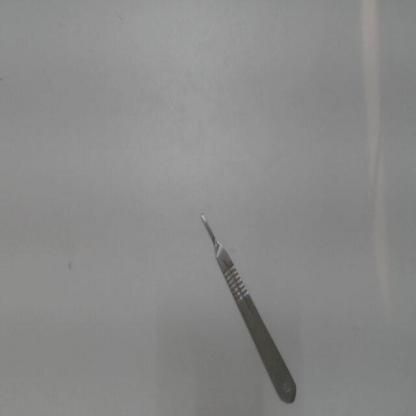No.3 BP Handle: (176, 196, 308, 413)
